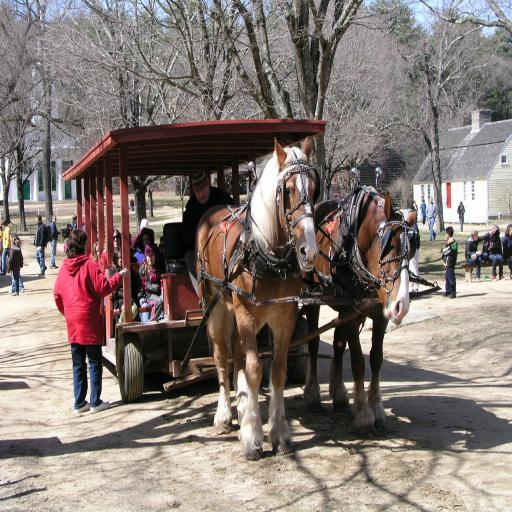horse: (192, 134, 320, 462), (302, 184, 418, 436)
